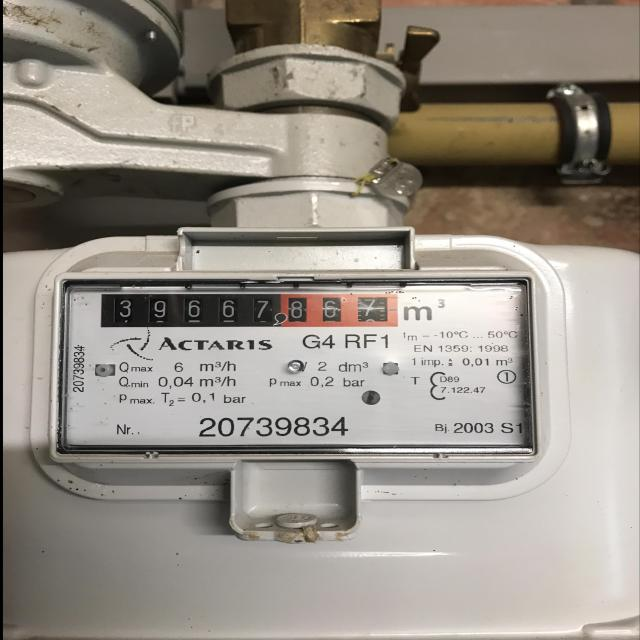gaz_meter: (62, 274, 536, 452)
indication: (99, 294, 399, 329)
